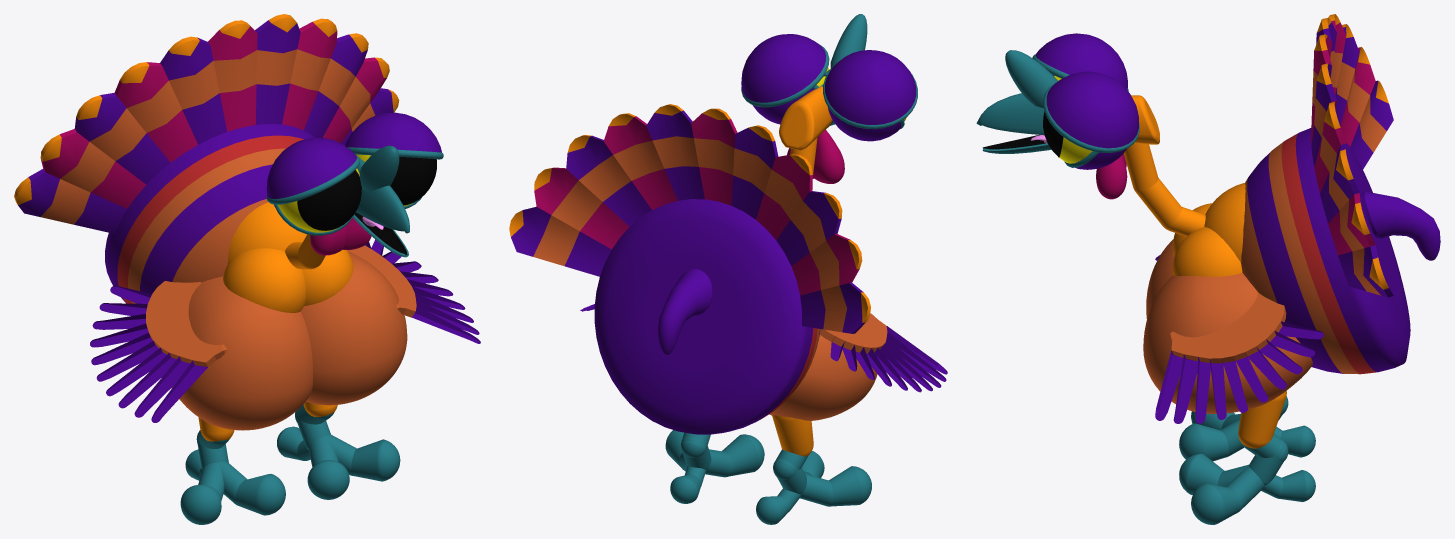
The model's file is Fauna_Tooorkey_Cute.fbx.
3 views of the same model, side by side, from view 1: azimuth 30°, elevation 25°; view 2: azimuth 150°, elevation 25°; view 3: azimuth 270°, elevation 25° (orthographic). The views are drawn at different scales.
Visible parts, largest first — view 1: butt, base1, breast2, knee (×2), breast1, lid_high (×2), eyeball1 (×2), feather04, feather03, feather05, feather02, feather06 (+15 smaller); view 2: butt, lid_high (×2), knee (×2), base1, breast2, feather11, feather10, feather09, feather08, feather07, feather06, feather05 (+11 smaller); view 3: butt, base1, knee (×2), breast1, lid_high (×2), tail, chest1, body, beak, feather01, feather10, feather11 (+18 smaller).
Part boxes in pixels (x1,y1,x2,y2): butt: (105, 124, 314, 303); base1: (90, 239, 480, 422); breast2: (171, 276, 313, 430); knee (×2): (180, 404, 400, 524); breast1: (301, 251, 407, 405); lid_high (×2): (266, 112, 441, 198); eyeball1 (×2): (278, 154, 436, 232); feather04: (114, 62, 197, 162); feather03: (74, 93, 170, 184); feather05: (160, 36, 226, 144); feather02: (40, 129, 145, 208); feather06: (208, 20, 257, 131); butt: (594, 199, 820, 434); lid_high (×2): (741, 34, 916, 124); knee (×2): (665, 430, 871, 524); base1: (580, 304, 947, 392); breast2: (769, 318, 877, 420); feather11: (509, 206, 611, 276); feather10: (534, 167, 629, 249); feather09: (566, 135, 651, 226); feather08: (603, 113, 677, 209); feather07: (646, 104, 704, 200); feather06: (691, 108, 737, 205); feather05: (731, 125, 778, 219); butt: (1241, 128, 1410, 374); base1: (1155, 254, 1323, 423); knee (×2): (1179, 396, 1315, 524); breast1: (1143, 272, 1312, 413); lid_high (×2): (1035, 33, 1138, 148); tail: (1361, 191, 1440, 260); chest1: (1172, 227, 1242, 276); body: (1204, 183, 1245, 262); beak: (976, 93, 1044, 135); feather01: (1350, 80, 1393, 169); feather10: (1328, 193, 1375, 255); feather11: (1338, 245, 1393, 297).
Bounding box in the file's own units: 57.2 × 62.88 × 59.78.
